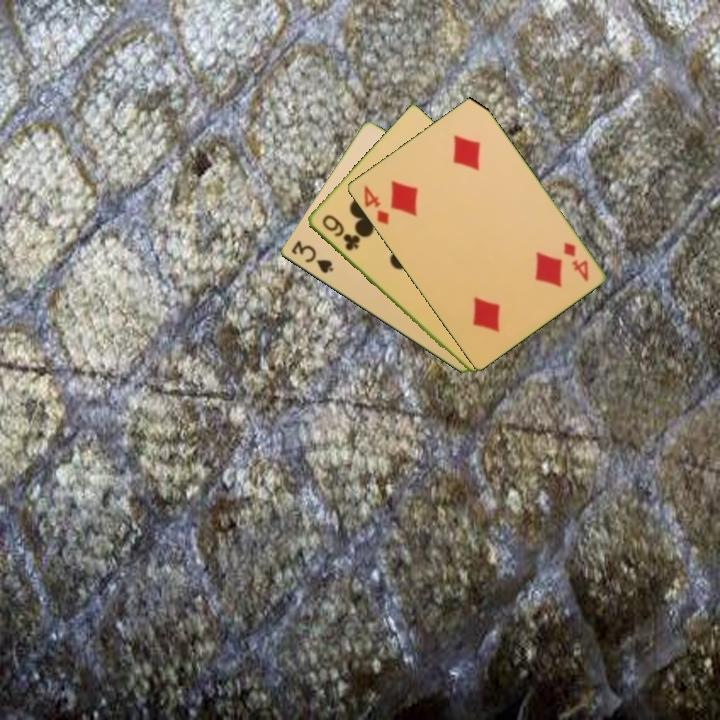3s: (287, 237, 336, 277)
4d: (360, 181, 392, 228), (559, 238, 591, 285)
9c: (318, 211, 362, 254)
